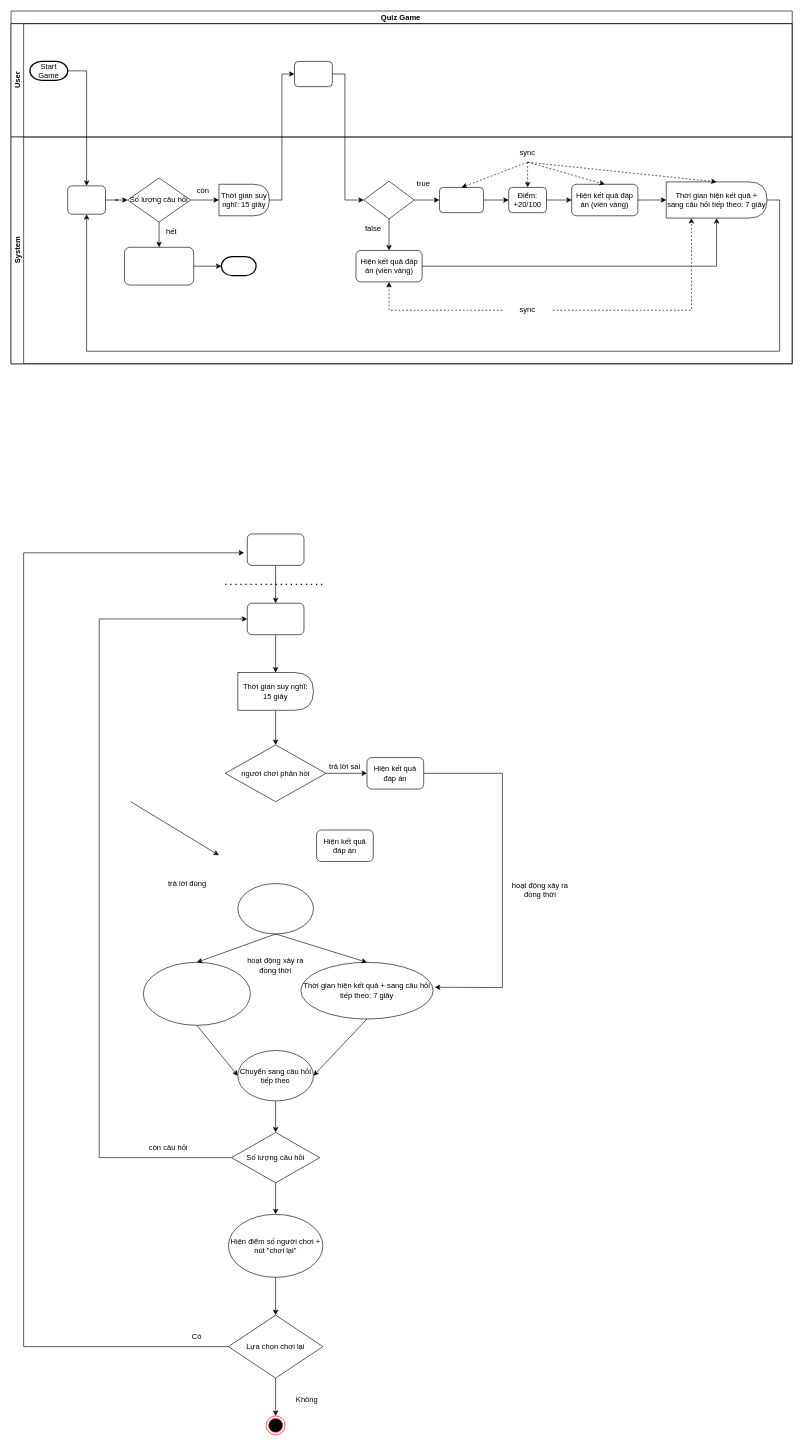
Image size: 803x1446. Some labels were removed from this diagram. Here are the shapes that lost their labels. From the top down, the centre of each, then its label:
point (313, 74): Trả lời câu hỏi
point (86, 199): Hiện câu hỏi
point (388, 199): Lựa chọn người chơi
point (461, 200): Hiện "Correct"
point (159, 266): Chuyển sang màn hình "Kết thúc game"
point (238, 266): End
point (275, 549): 5 câu hỏi
point (275, 619): 1 câu hỏi => 4 câu trả lời
point (275, 908): Hiện thông báo "Correct"
point (196, 993): Điểm: +20/100 (1/5 câu hỏi)
